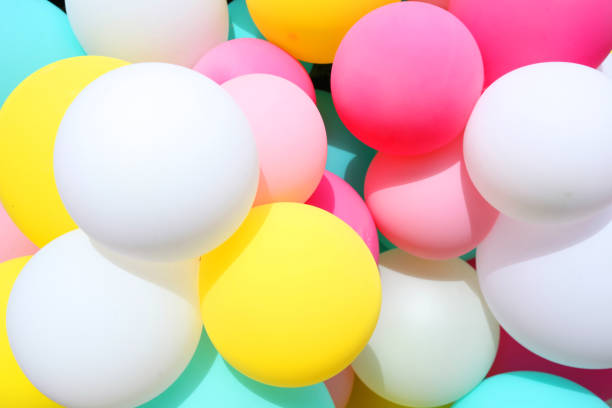Balloon: (53, 61, 261, 263), (6, 227, 201, 408), (199, 203, 383, 386), (463, 61, 612, 219), (330, 2, 484, 152), (359, 250, 501, 406), (474, 220, 612, 370)
